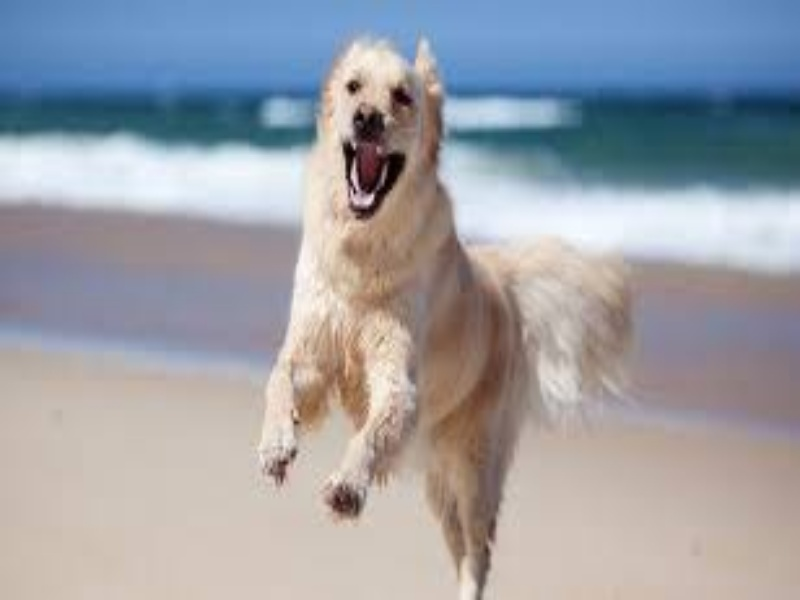dog: (214, 19, 666, 587)
